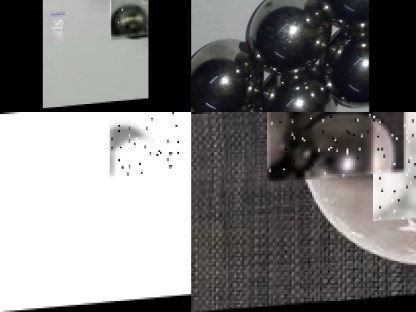ironball: (266, 112, 403, 182), (189, 33, 265, 108), (245, 0, 326, 69), (109, 112, 191, 176), (373, 112, 415, 222), (322, 21, 369, 102), (264, 66, 341, 111), (111, 0, 148, 40), (142, 0, 148, 4)
